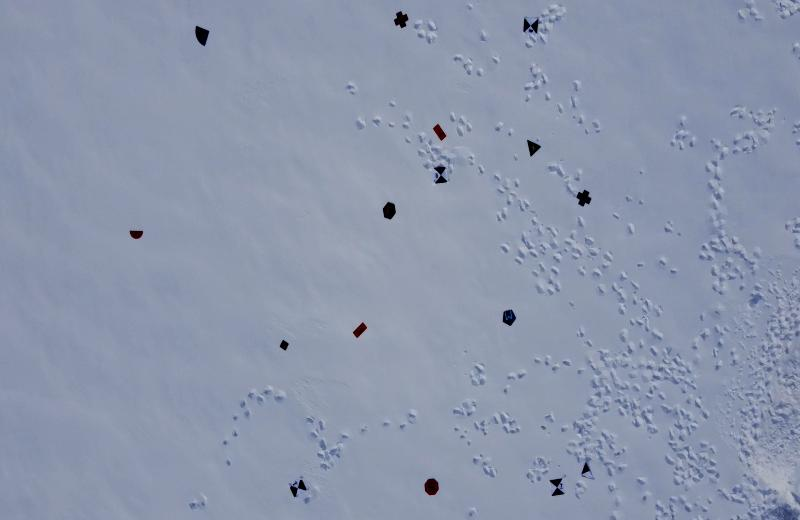Cross: (576, 189, 592, 207), (394, 10, 409, 29)
Hexagon: (382, 201, 396, 221)
Octagon: (424, 477, 440, 496)
Pentagon: (501, 309, 516, 326)
Quarter Circle: (194, 24, 210, 48)
Rectangle: (352, 321, 368, 339), (433, 123, 447, 141)
Semi Circle: (128, 228, 144, 240)
Square: (279, 338, 290, 351)
Triangle: (527, 138, 541, 158)
